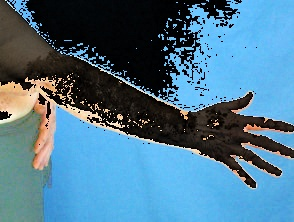vitiligo: (0, 0, 294, 195)
